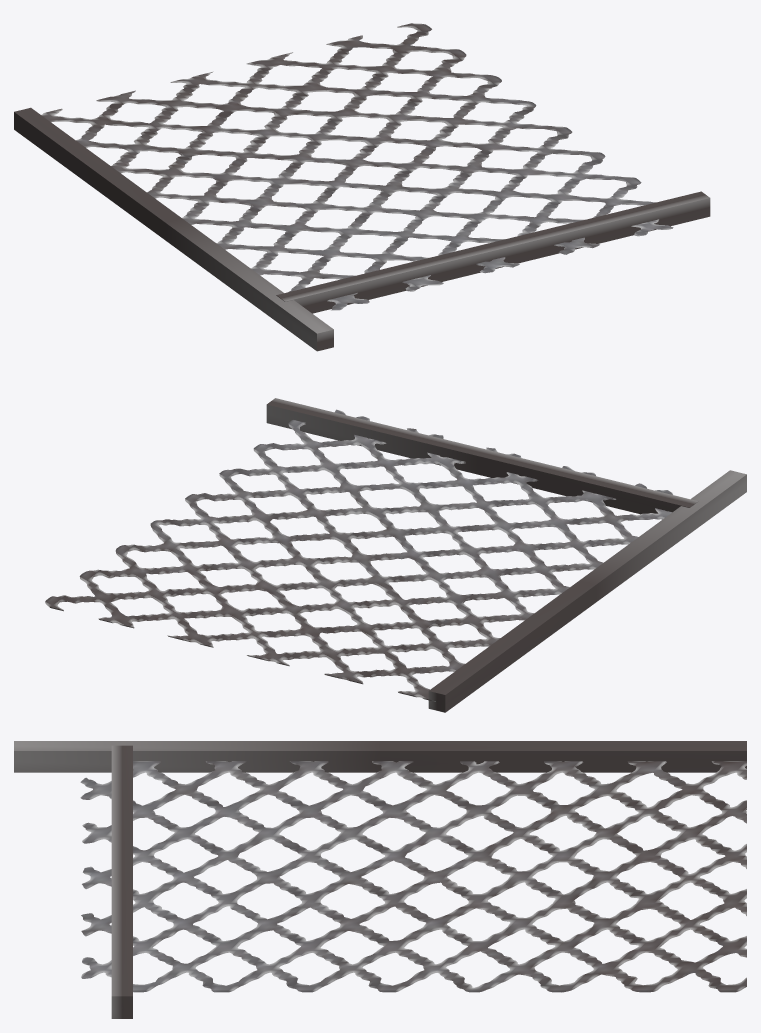
The model's file is pz_fence_png_fencing_01_25.obj.
3 views of the same model, one above another, from view 1: azimuth 30°, elevation 25°; view 2: azimuth 150°, elevation 25°; view 3: azimuth 270°, elevation 25° (orthographic). The views are drawn at different scales.
Bounding box in the file's own units: 1.02 × 0.042 × 1.24.
Materials: 1 (1 with a texture image).
